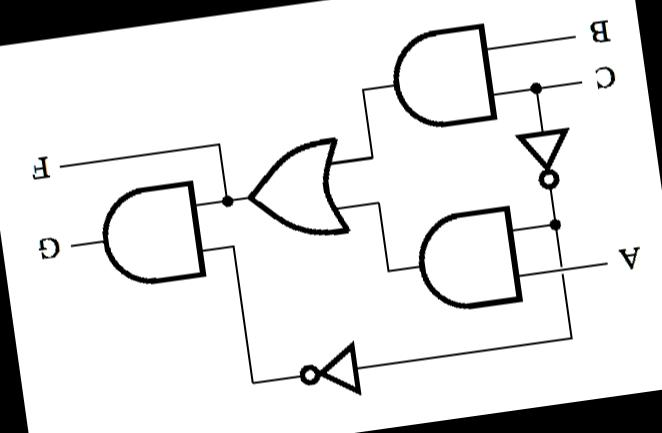and: (402, 196, 532, 322), (88, 171, 215, 298), (378, 14, 505, 138)
not: (288, 331, 370, 409), (506, 117, 581, 197)
or: (232, 129, 354, 254)
